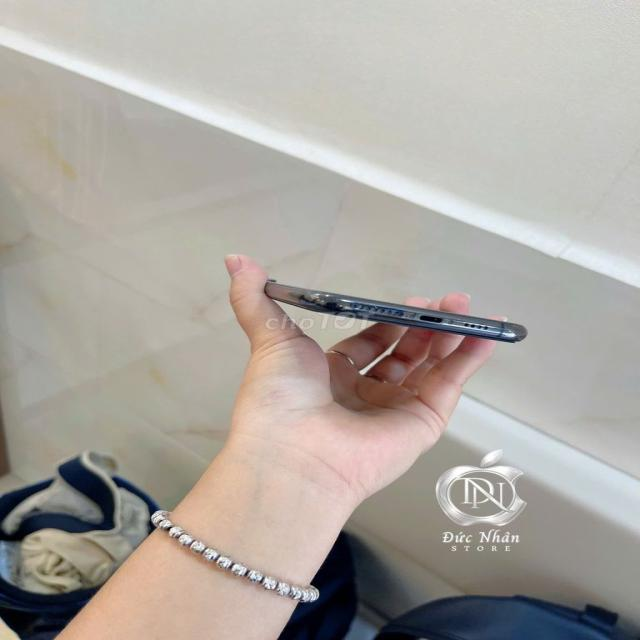gen_x_xs: (264, 280, 527, 342)
